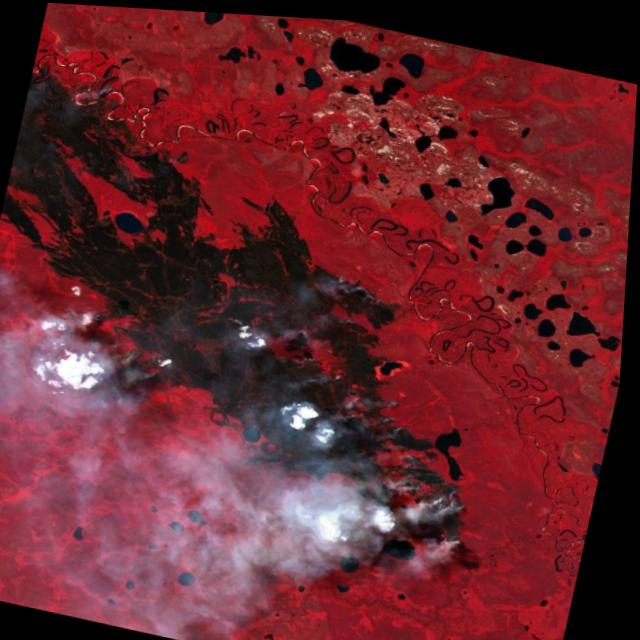fire: (318, 357, 513, 557), (57, 279, 214, 398)
